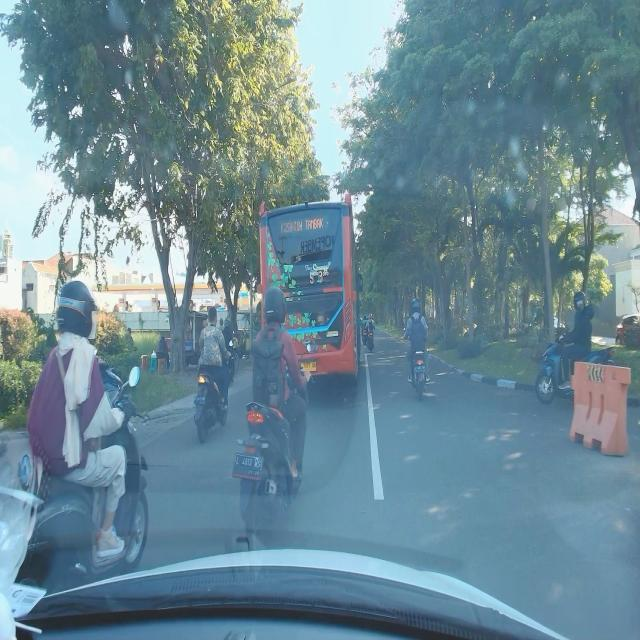bus: (258, 193, 362, 384)
